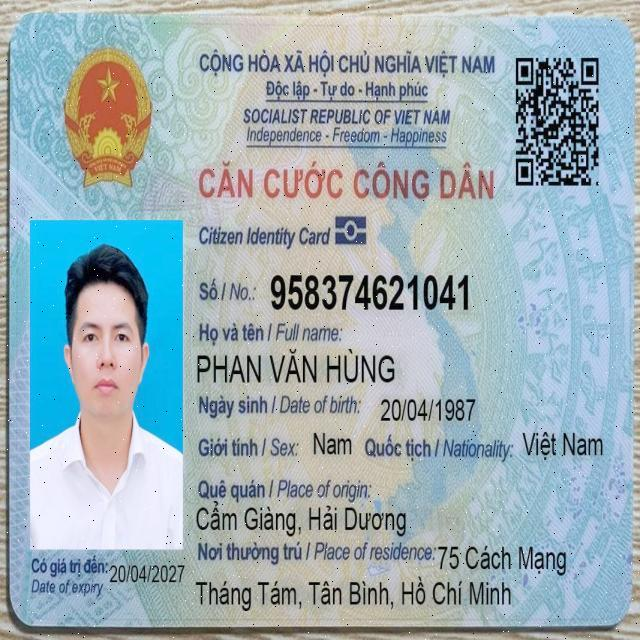current_place: (193, 574, 516, 616), (436, 539, 569, 580)
dob: (376, 390, 478, 430)
expire_date: (106, 558, 188, 590)
gender: (310, 428, 354, 462)
id: (268, 267, 473, 319)
name: (192, 343, 401, 391)
nationality: (520, 428, 606, 465)
origin_place: (193, 497, 410, 541)
qr: (511, 51, 604, 194)
